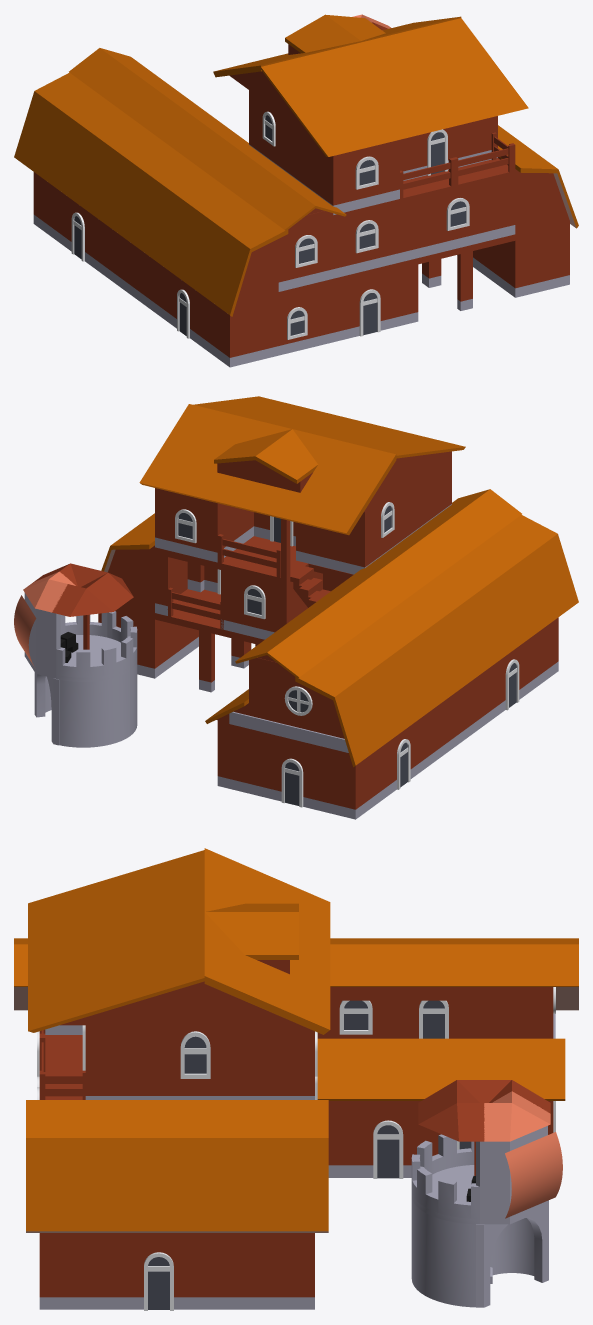
File: Maison3.fbx
The picture shows the model from 3 angles, top to bottom: view 1: azimuth 30°, elevation 25°; view 2: azimuth 150°, elevation 25°; view 3: azimuth 270°, elevation 25°; orthographic projection. The views are drawn at different scales.
Visible parts, largest first — view 1: roof_barn_500, roof_half_large_542, block_491, block_509, roof_520, block_527, block_columns_485, roof_half_extra_541, roof_barn_507, block_columns_488, block_529, fence_wood_534 (+10 smaller); view 2: roof_barn_500, roof_half_extra_541, block_491, roof_520, block_527, block_columns_515, roof_half_large_542, block_columns_487, wall_cornerRound%_563, block_530, roof_barn_507, block_494 (+24 smaller); view 3: roof_barn_507, roof_half_large_542, roof_half_extra_541, roof_half_496, roof_520, block_529, block_columns_485, block_columns_487, block_530, block_491, block_columns_486, wall_cornerRound%_562 (+24 smaller).
Boxes of the visible parts, bbox=[...] form: roof_barn_500: bbox=[14, 72, 288, 316]; roof_half_large_542: bbox=[261, 18, 528, 156]; block_491: bbox=[33, 172, 363, 367]; block_509: bbox=[278, 158, 515, 291]; roof_520: bbox=[69, 48, 346, 230]; block_527: bbox=[249, 90, 399, 214]; block_columns_485: bbox=[425, 221, 569, 310]; roof_half_extra_541: bbox=[213, 14, 461, 104]; roof_barn_507: bbox=[498, 125, 578, 234]; block_columns_488: bbox=[363, 245, 472, 330]; block_529: bbox=[400, 116, 497, 180]; fence_wood_534: bbox=[453, 143, 515, 185]; roof_barn_500: bbox=[295, 515, 578, 767]; roof_half_extra_541: bbox=[139, 404, 396, 535]; block_491: bbox=[217, 617, 558, 819]; roof_520: bbox=[235, 489, 521, 678]; block_527: bbox=[296, 451, 451, 574]; block_columns_515: bbox=[155, 536, 322, 639]; roof_half_large_542: bbox=[193, 396, 465, 495]; block_columns_487: bbox=[98, 589, 247, 692]; wall_cornerRound%_563: bbox=[59, 671, 129, 747]; block_530: bbox=[155, 488, 253, 562]; roof_barn_507: bbox=[101, 513, 187, 612]; block_494: bbox=[249, 662, 305, 729]; roof_barn_507: bbox=[26, 1100, 328, 1232]; roof_half_large_542: bbox=[28, 850, 204, 1032]; roof_half_extra_541: bbox=[204, 848, 330, 1034]; roof_half_496: bbox=[317, 1038, 565, 1100]; roof_520: bbox=[14, 944, 578, 986]; block_529: bbox=[85, 1025, 222, 1099]; block_columns_485: bbox=[39, 1233, 131, 1309]; block_columns_487: bbox=[223, 1233, 314, 1309]; block_530: bbox=[223, 1025, 314, 1099]; block_491: bbox=[328, 1101, 553, 1177]; block_columns_486: bbox=[131, 1233, 222, 1309]; wall_cornerRound%_562: bbox=[411, 1196, 475, 1307].
Bounding box in the file's own units: 58.66 × 36.64 × 61.6.
